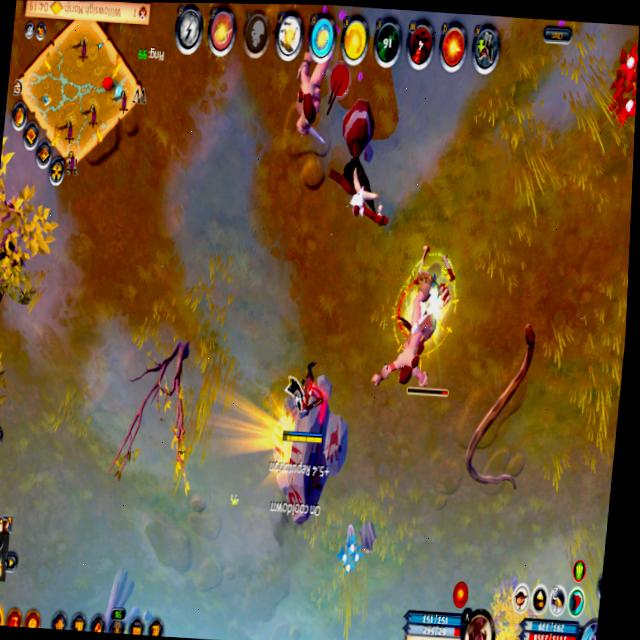hide: (333, 519, 368, 579)
ore: (459, 310, 542, 509), (366, 263, 464, 404), (281, 37, 340, 156)
red: (271, 349, 343, 460)
